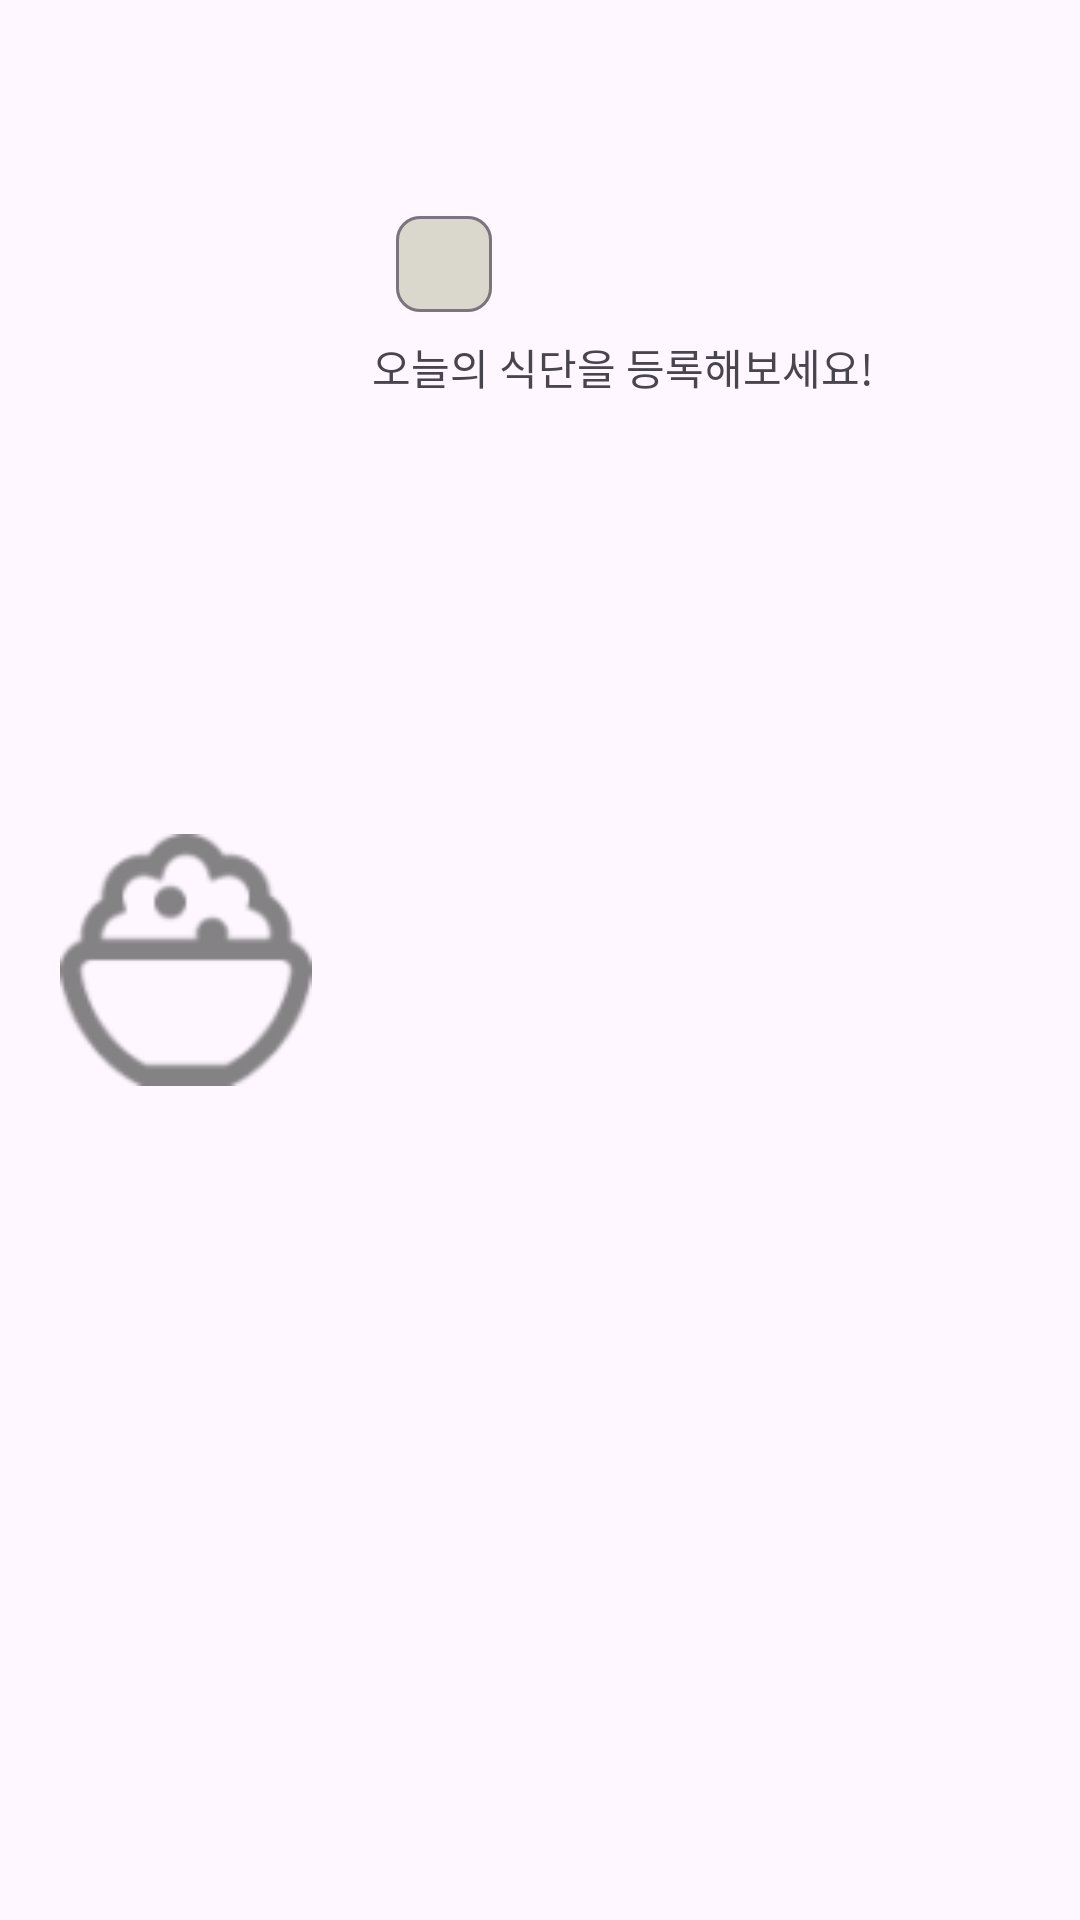

Screen size 1080w x 1920h. Icon name, then its box in pixels as (x1,y1,x2,y2):
bottom diet unclick: (60,834,312,1086)
